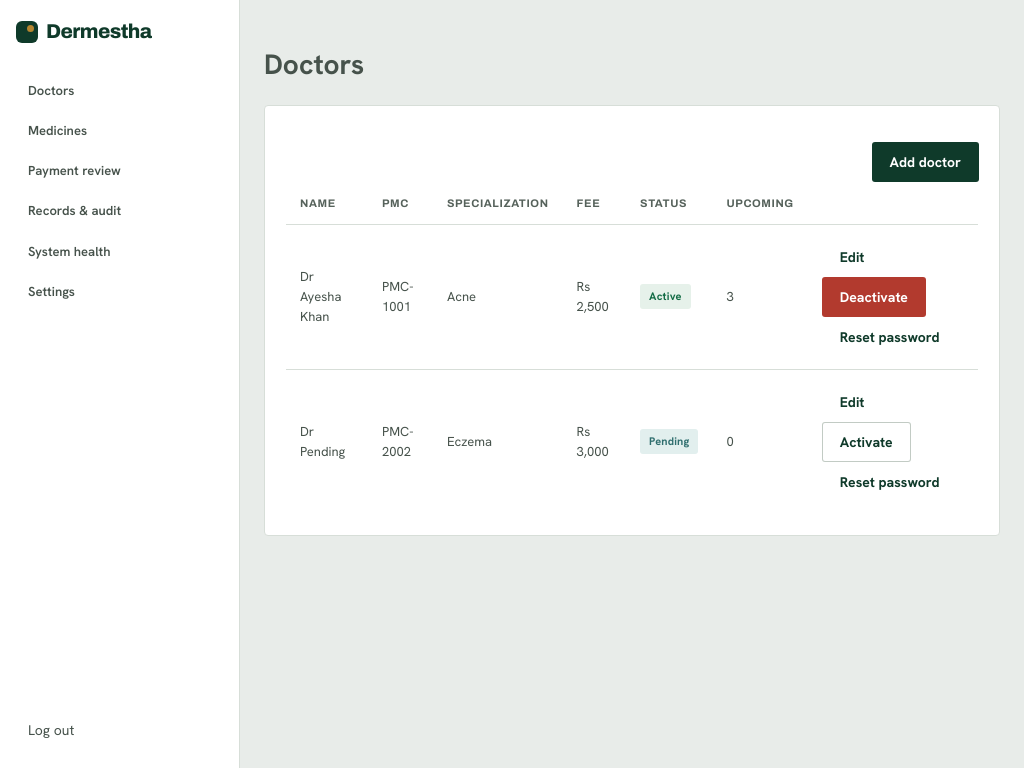
it: AdminDoctors (A-01) › deactivation modal surfaces the API error
Expected: the text "Dr Ayesha Khan" is shown, [286, 224, 368, 369]
Click the button "Deactivate". click: [874, 297]
box: [822, 277, 926, 317]
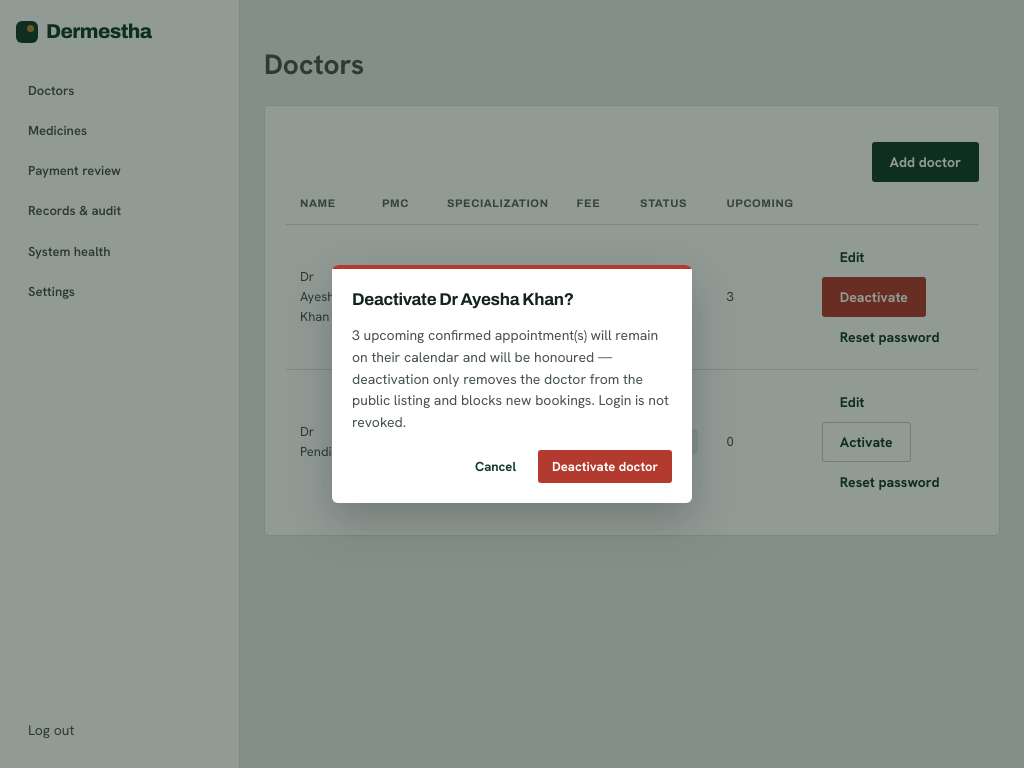
Click the button "Deactivate doctor". click: [605, 466]
box: [538, 450, 672, 483]
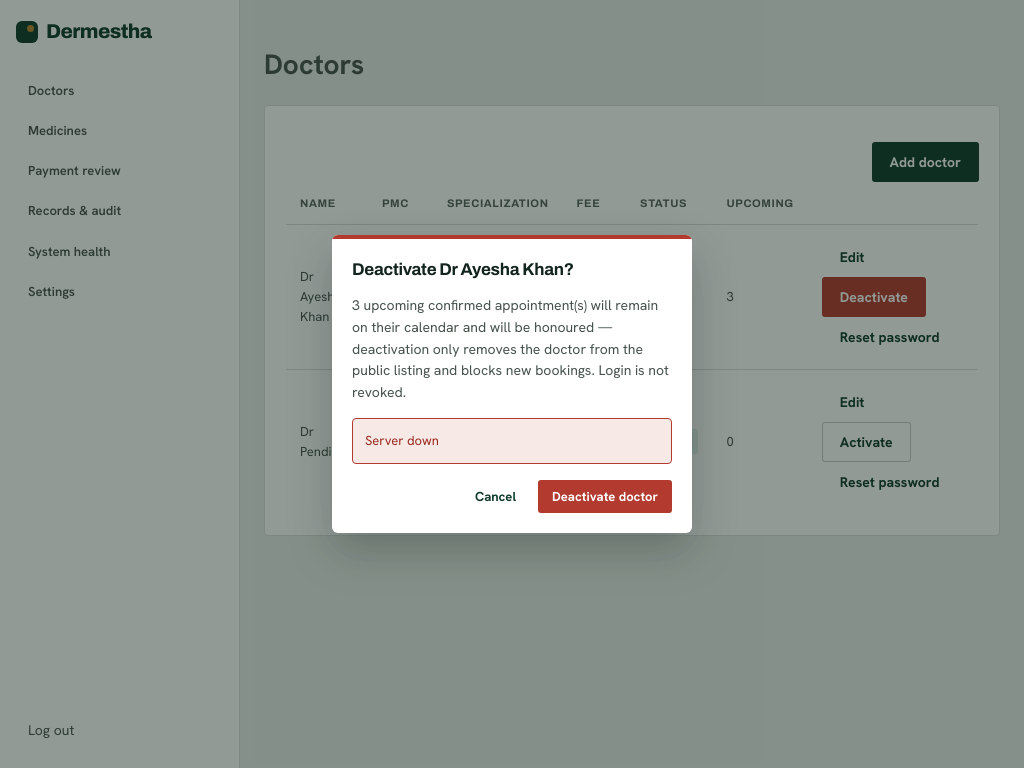
Now the dialog is shown
Now the text "Server down" is shown, box [352, 418, 672, 464]
